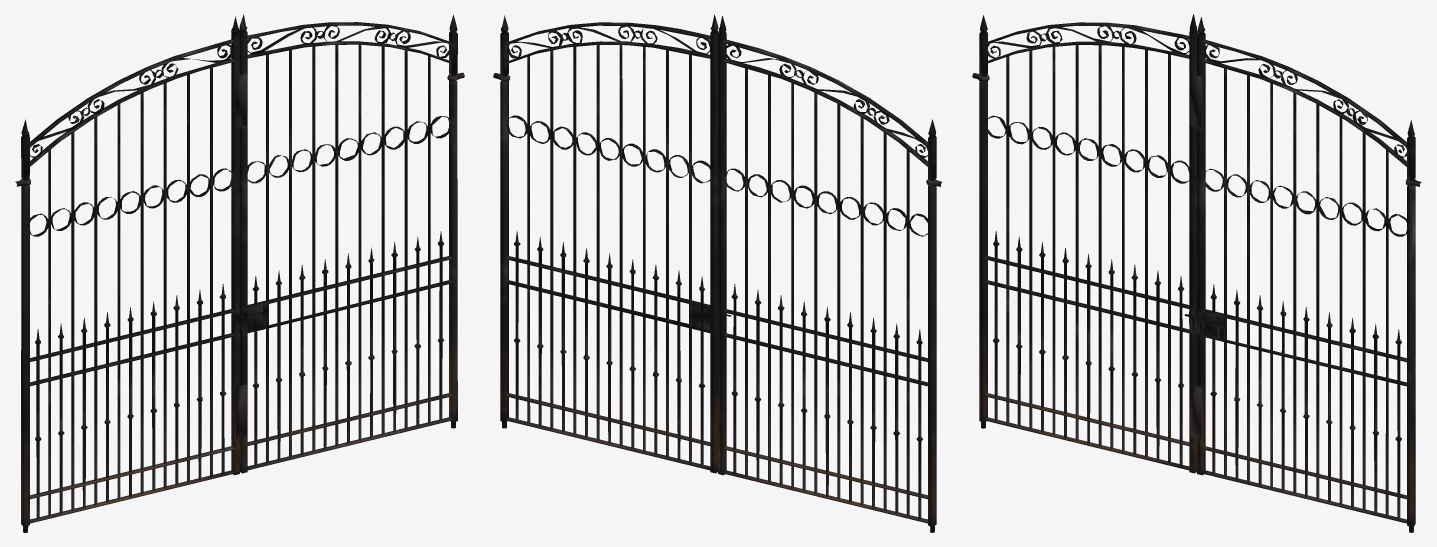
The model's file is large_iron_gate_lod2.glb.
The picture shows the model from 3 angles, left to right: view 1: azimuth 30°, elevation 25°; view 2: azimuth 150°, elevation 25°; view 3: azimuth 330°, elevation 25°; orthographic projection.
Parts seen in each view (by area): view 1: large_iron_gate_right_door; view 2: large_iron_gate_right_door; view 3: large_iron_gate_right_door.
Part boxes in pixels (left/top/right/bottom): large_iron_gate_right_door: left=15, top=14, right=464, bottom=532; large_iron_gate_right_door: left=493, top=14, right=941, bottom=532; large_iron_gate_right_door: left=972, top=14, right=1421, bottom=532.
Bounding box in the file's own units: 2.95 × 2.93 × 0.0958.
1 material, 1 textured.
